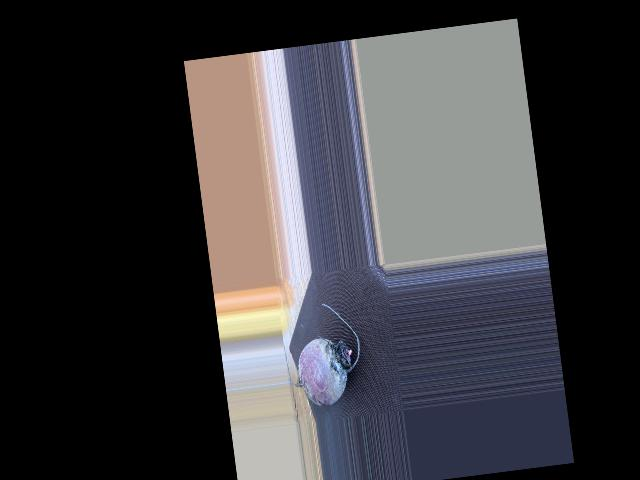beet: (279, 299, 367, 410)
